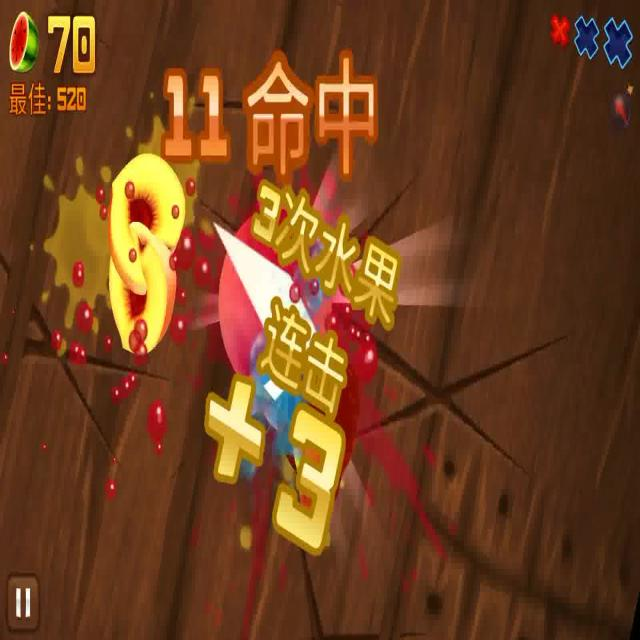fruit: (218, 208, 339, 408), (106, 152, 186, 286), (109, 224, 175, 356)
